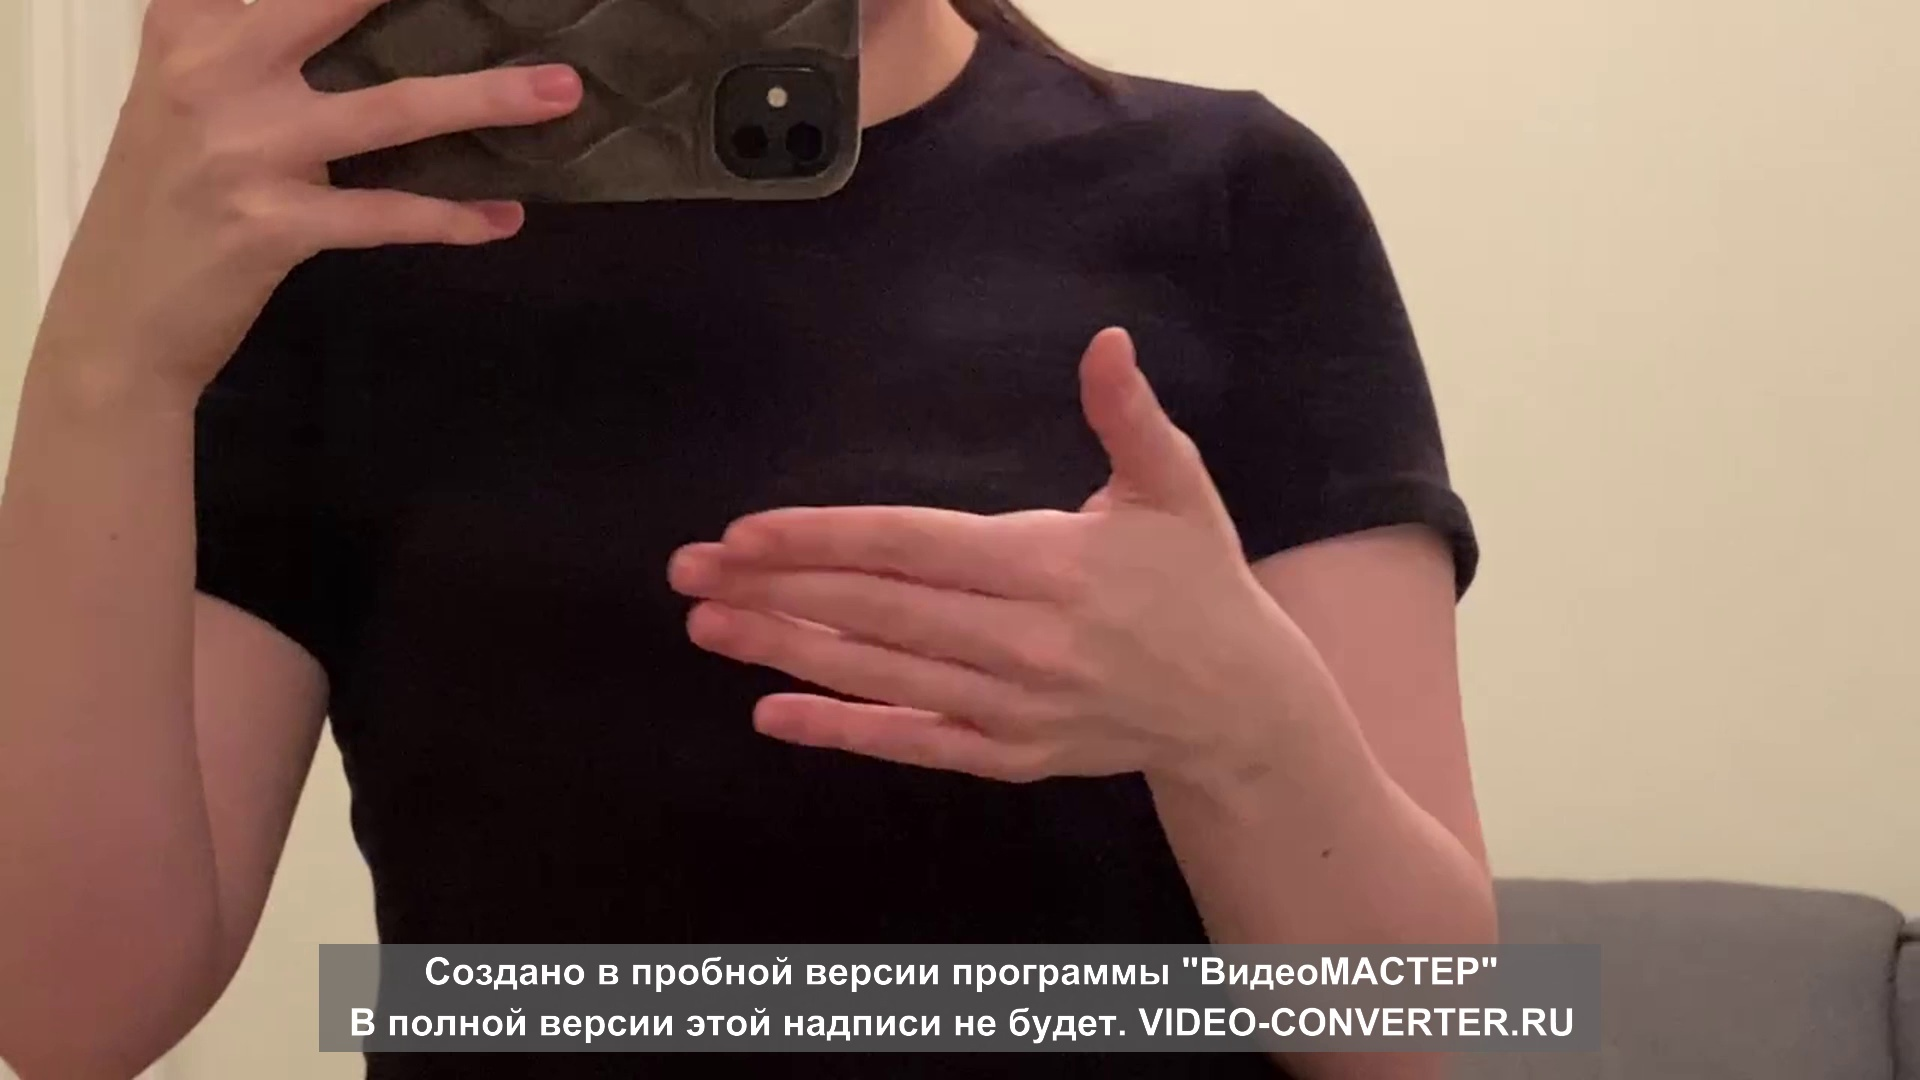Кисть: (669, 328, 1242, 782)
